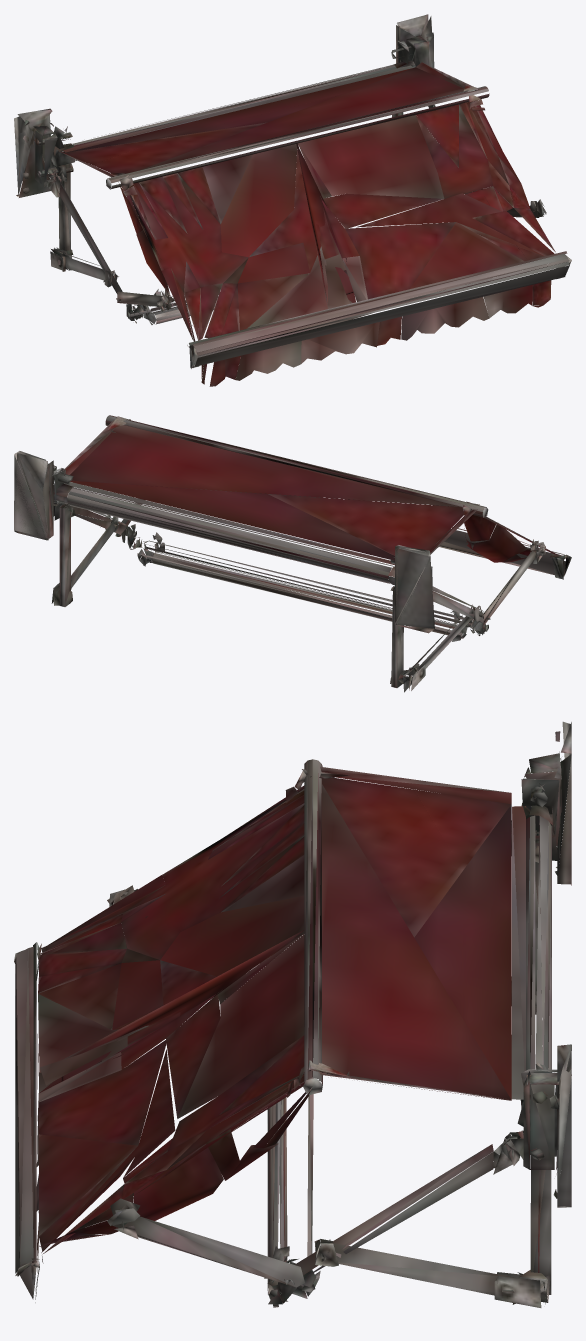
The model's file is awning-far.glb.
3 views of the same model, one above another, from view 1: azimuth 30°, elevation 25°; view 2: azimuth 150°, elevation 25°; view 3: azimuth 270°, elevation 25° (orthographic). The views are drawn at different scales.
Parts seen in each view (by area): view 1: awning; view 2: awning; view 3: awning.
Boxes of the visible parts, x1,y1,x2,y2 form: awning: [14, 14, 571, 386]; awning: [14, 415, 571, 692]; awning: [14, 721, 571, 1307].
Size of the model in its own units: 3.21 by 1.25 by 2.14.
Materials: 1 (1 with a texture image).
